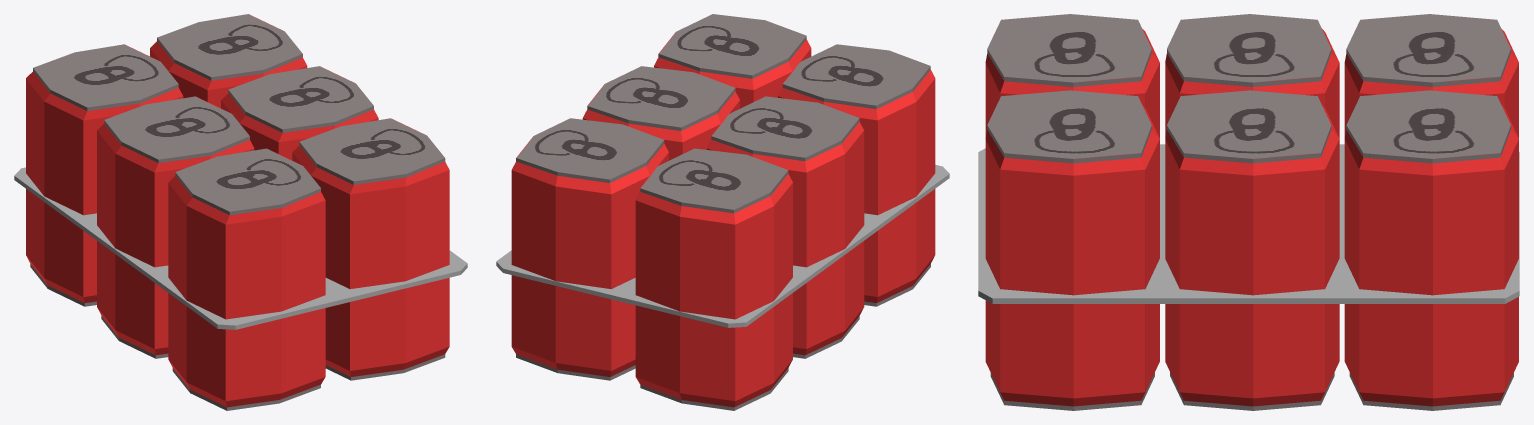
The model's file is sodasixpack.fbx.
The picture shows the model from 3 angles, left to right: view 1: azimuth 30°, elevation 25°; view 2: azimuth 150°, elevation 25°; view 3: azimuth 270°, elevation 25°; orthographic projection. The views are drawn at different scales.
Visible parts, largest first — view 1: Cube, Cube.002, Cube.005, Cube.007, Cube.004, Cube.006, Cube.001; view 2: Cube.007, Cube.006, Cube.005, Cube, Cube.002, Cube.004, Cube.001; view 3: Cube.006, Cube.002, Cube.004, Cube, Cube.005, Cube.007, Cube.001.
Boxes of the visible parts, left/top/right/bottom form: Cube: left=168, top=148, right=325, bottom=410; Cube.002: left=292, top=118, right=449, bottom=380; Cube.005: left=97, top=96, right=254, bottom=358; Cube.007: left=26, top=44, right=183, bottom=306; Cube.004: left=221, top=66, right=378, bottom=160; Cube.006: left=150, top=14, right=307, bottom=108; Cube.001: left=14, top=167, right=467, bottom=329; Cube.007: left=635, top=148, right=792, bottom=410; Cube.006: left=511, top=118, right=668, bottom=380; Cube.005: left=707, top=96, right=864, bottom=358; Cube: left=778, top=44, right=935, bottom=306; Cube.002: left=654, top=14, right=811, bottom=108; Cube.004: left=582, top=66, right=739, bottom=160; Cube.001: left=496, top=164, right=949, bottom=327; Cube.006: left=1344, top=90, right=1518, bottom=410; Cube.002: left=985, top=90, right=1159, bottom=410; Cube.004: left=1165, top=90, right=1339, bottom=410; Cube: left=985, top=14, right=1159, bottom=138; Cube.005: left=1165, top=14, right=1339, bottom=138; Cube.007: left=1344, top=14, right=1518, bottom=137; Cube.001: left=978, top=144, right=1519, bottom=303.
Bounding box in the file's own units: 532 × 406 × 790.
